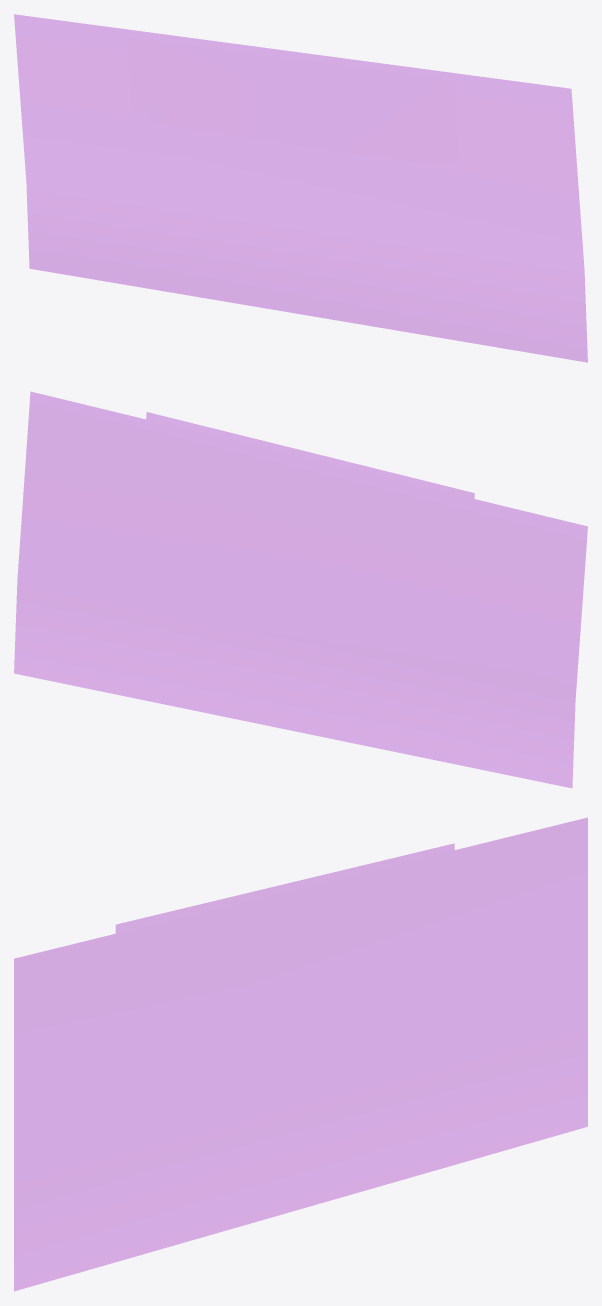
The model's file is Mesh_Note_01.fbx.
3 views of the same model, one above another, from view 1: azimuth 30°, elevation 25°; view 2: azimuth 210°, elevation 25°; view 3: azimuth 270°, elevation 25° (orthographic). The views are drawn at different scales.
Visible parts, largest first — view 1: Mesh_Note_01; view 2: Mesh_Note_01; view 3: Mesh_Note_01.
Part boxes in pixels (x1,y1,x2,y2): Mesh_Note_01: (14,14,587,362); Mesh_Note_01: (14,391,587,788); Mesh_Note_01: (14,817,587,1291).
Size of the model in its own units: 0.1713 by 0.1443 by 0.2236.
